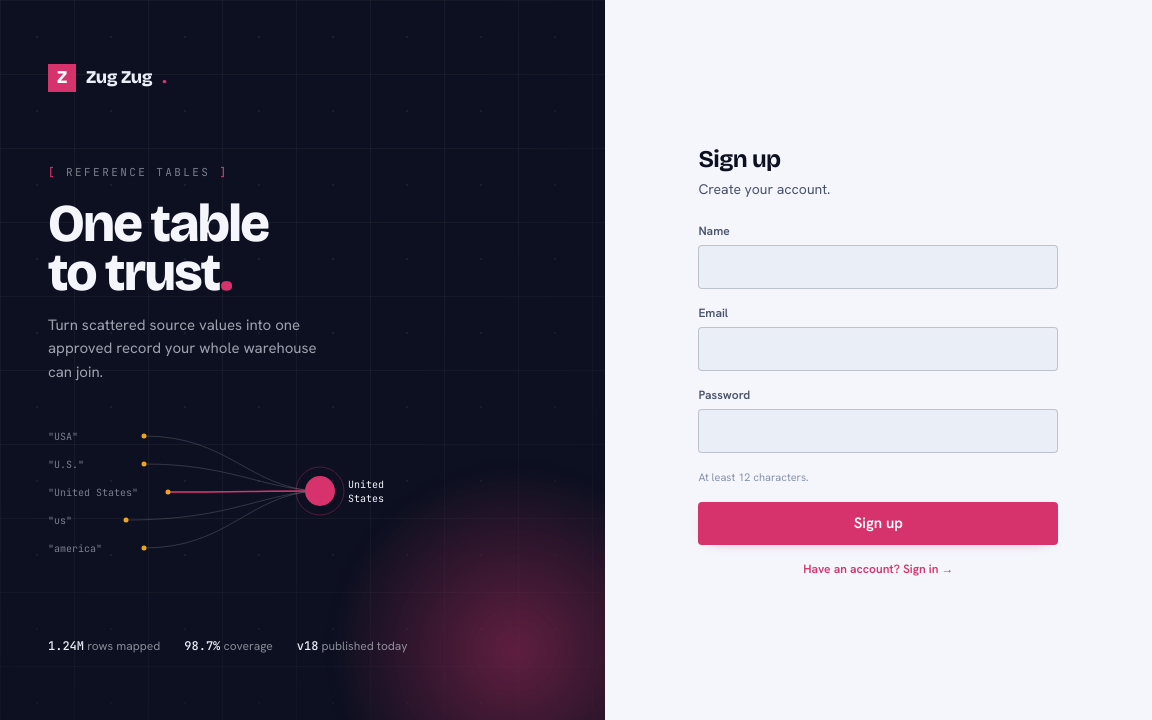
Test: Signup › shows error for not_allowed (allowlist failure)
Type "Test" into the field labelled "Name".
click(878, 267); type("Test")  # box 698,245 -> 1058,289
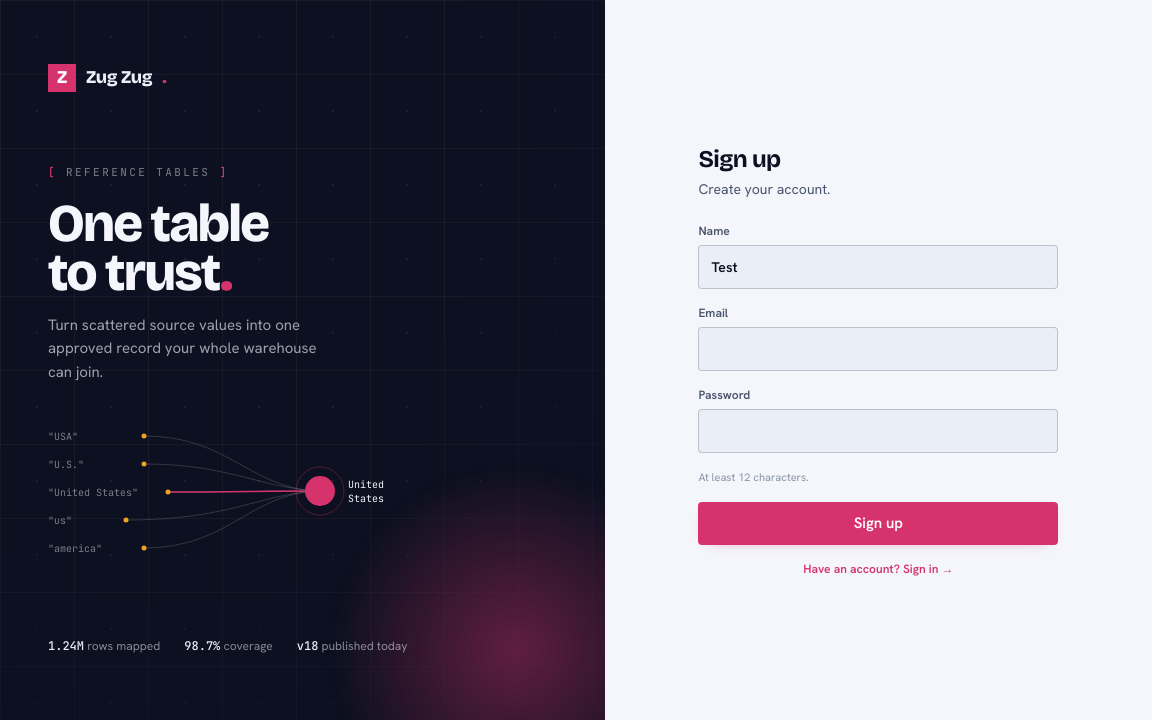
Type "test@example.com" into the field labelled "Email".
click(878, 349); type("test@example.com")  # box 698,327 -> 1058,371
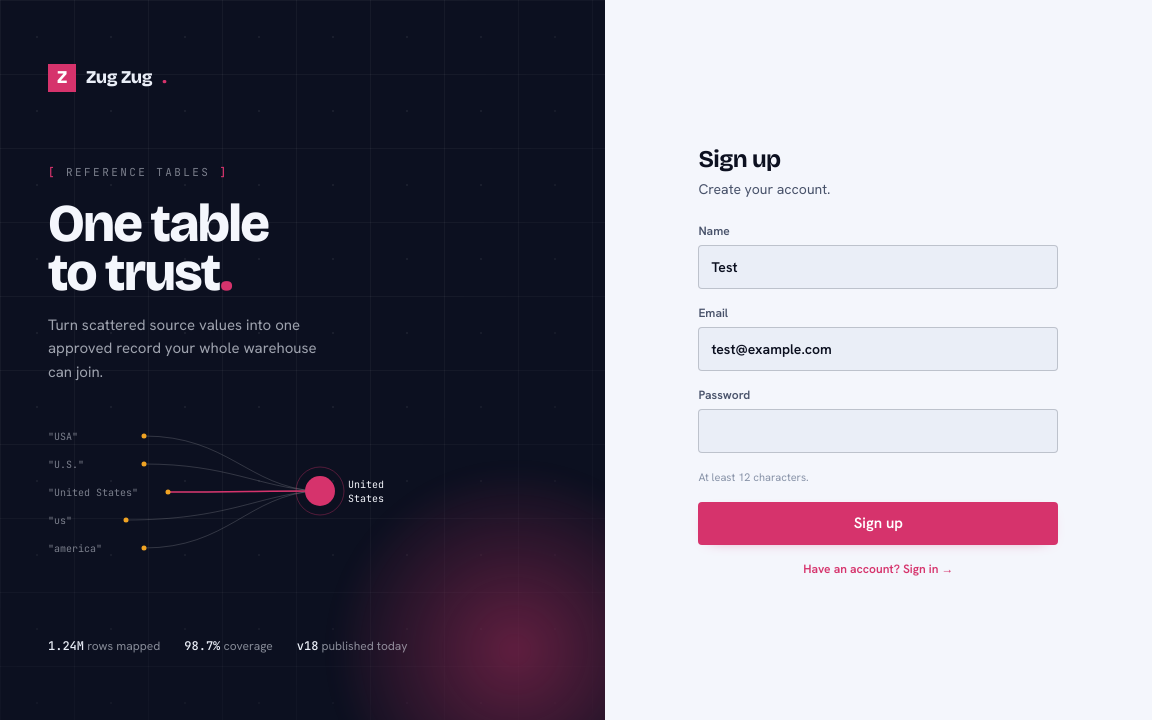
Type "longenoughpw12" into the password field labelled "Password".
click(878, 431); type("longenoughpw12")  # box 698,409 -> 1058,453
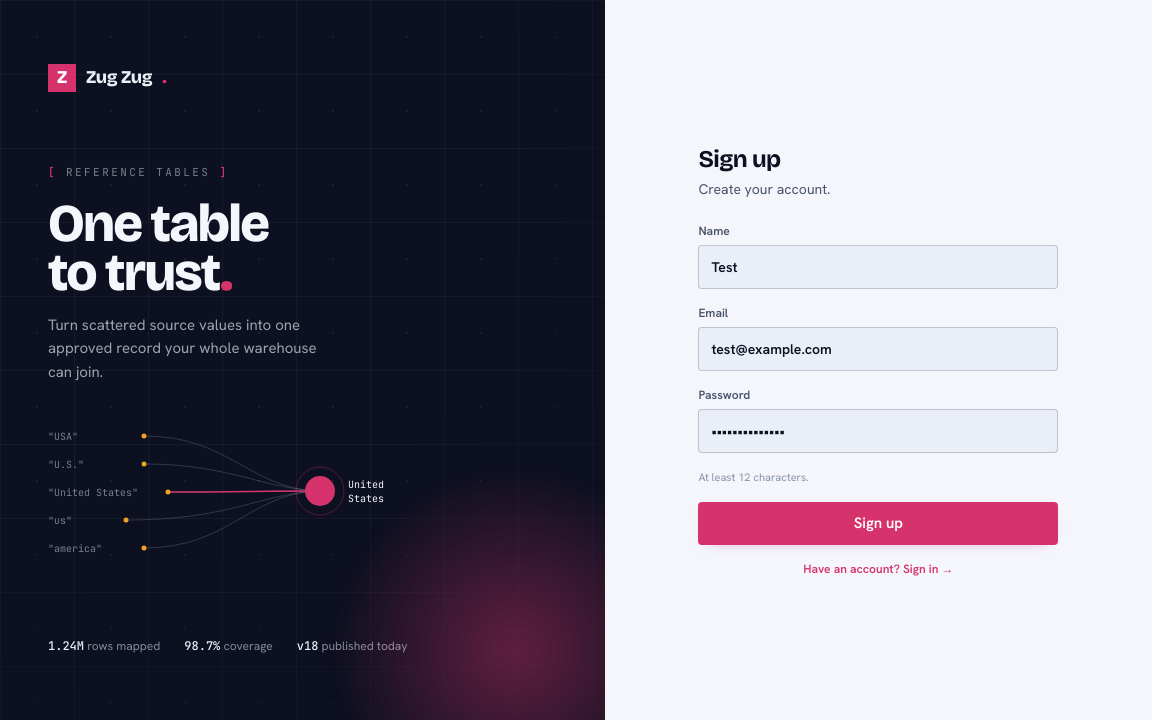
Click the button "Sign up".
click(878, 524)  # box 698,502 -> 1058,545
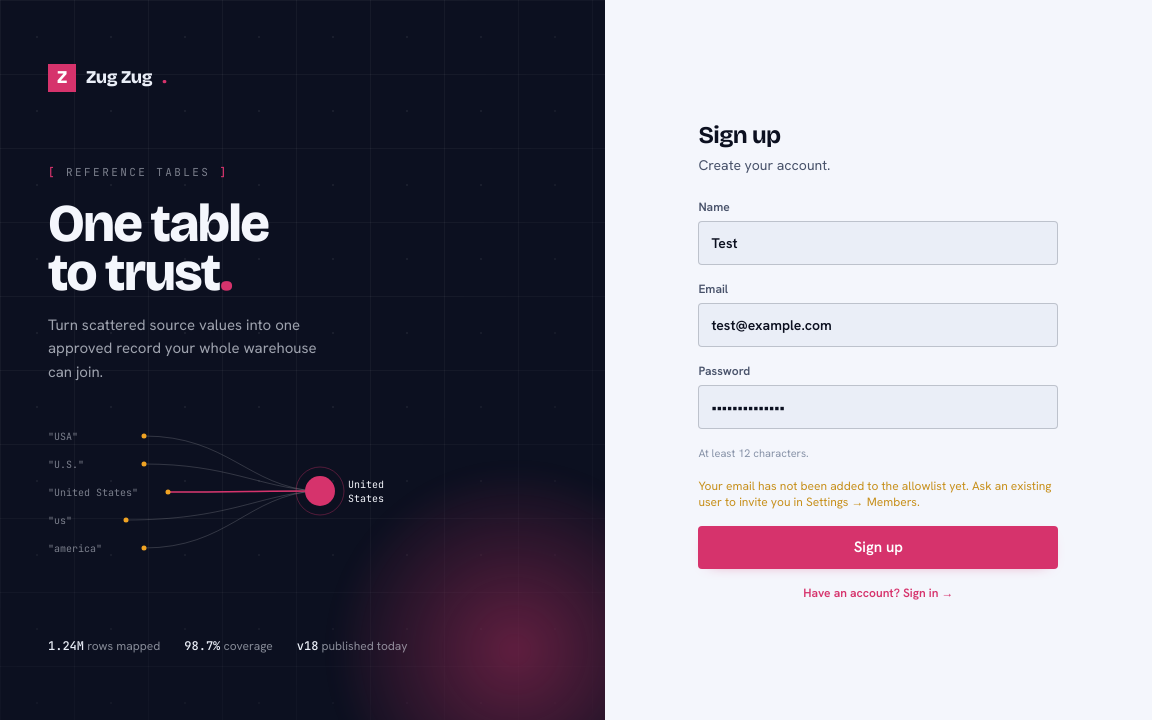
Result: the text "not been added" is shown at 698,478 -> 1051,510
